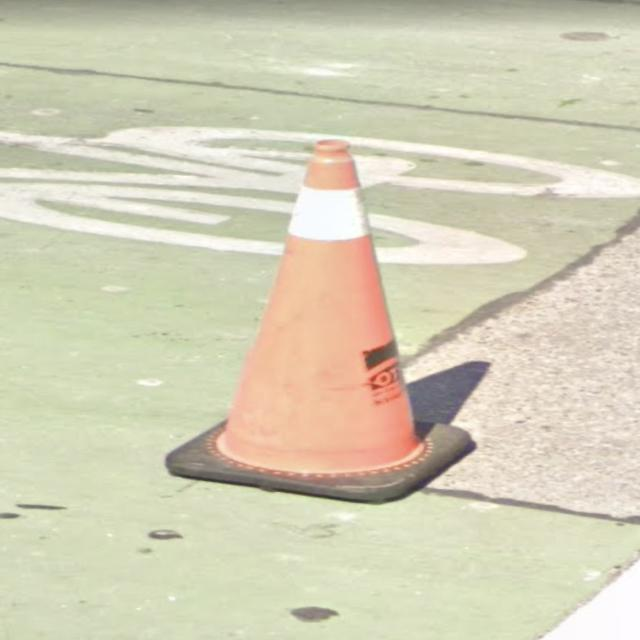Traffic Cone: (161, 140, 477, 504)
